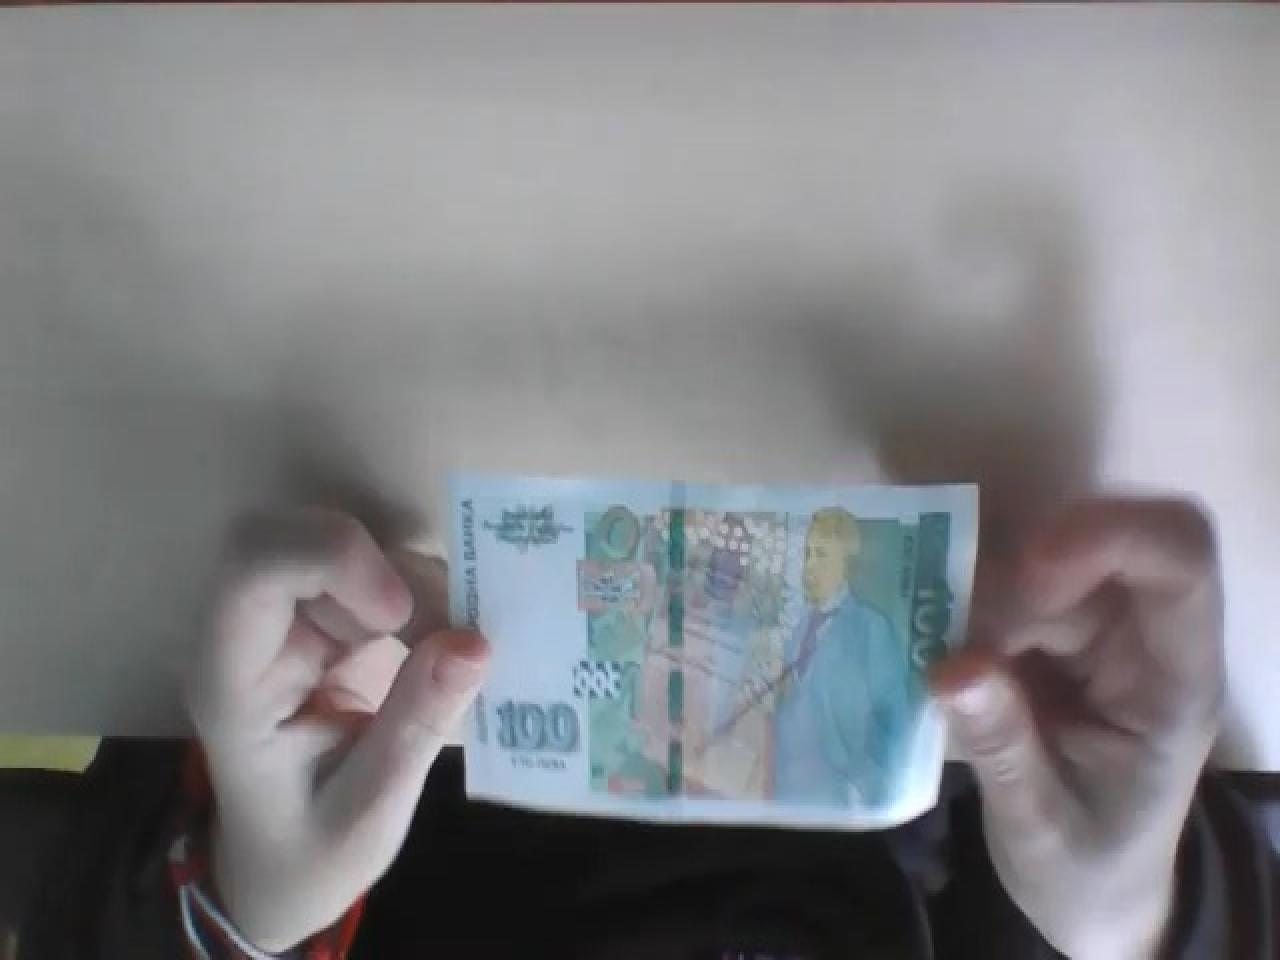100leva: (446, 472, 982, 837), (494, 699, 582, 757)
